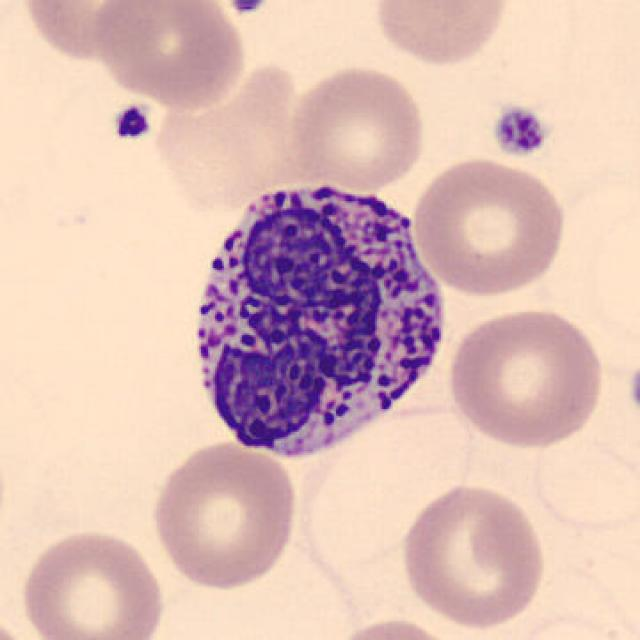Basophil: (172, 162, 458, 473)
Platelets: (489, 102, 551, 160), (110, 102, 153, 143), (226, 0, 272, 18)
RBC: (292, 391, 480, 582), (444, 304, 608, 452), (148, 437, 302, 594), (407, 153, 571, 300), (396, 478, 550, 631), (155, 69, 308, 204), (286, 62, 430, 192), (16, 525, 169, 640), (94, 0, 248, 109), (522, 422, 636, 546), (368, 0, 514, 69), (14, 0, 167, 62), (501, 608, 633, 640), (325, 613, 462, 640), (0, 608, 46, 640)
